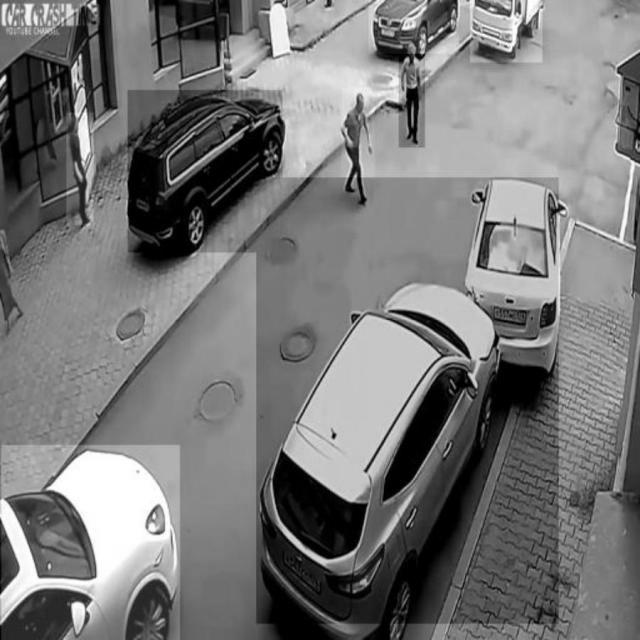accident: (257, 178, 559, 624)
person: (342, 88, 376, 206), (66, 112, 93, 225), (399, 45, 425, 147)
vehicle: (1, 445, 179, 640), (128, 90, 282, 254), (369, 0, 459, 54), (471, 1, 543, 63)
